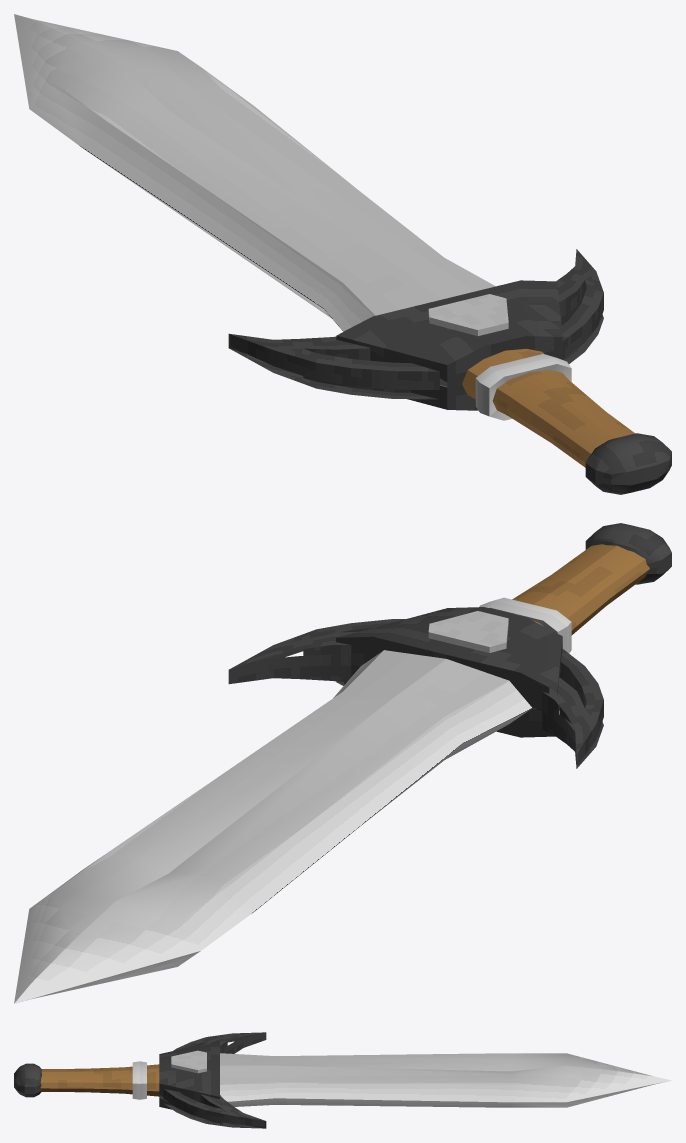
File: Zwaard.fbx
3 views of the same model, one above another, from view 1: azimuth 30°, elevation 25°; view 2: azimuth 150°, elevation 25°; view 3: azimuth 270°, elevation 25° (orthographic). The views are drawn at different scales.
Parts seen in each view (by area): view 1: Cube.001; view 2: Cube.001; view 3: Cube.001.
Part boxes in pixels (x1,y1,x2,y2): Cube.001: (14, 14, 671, 494); Cube.001: (14, 523, 671, 1003); Cube.001: (14, 1032, 671, 1128).
Bounding box in the file's own units: 0.2484 × 0.0525 × 0.7787.
